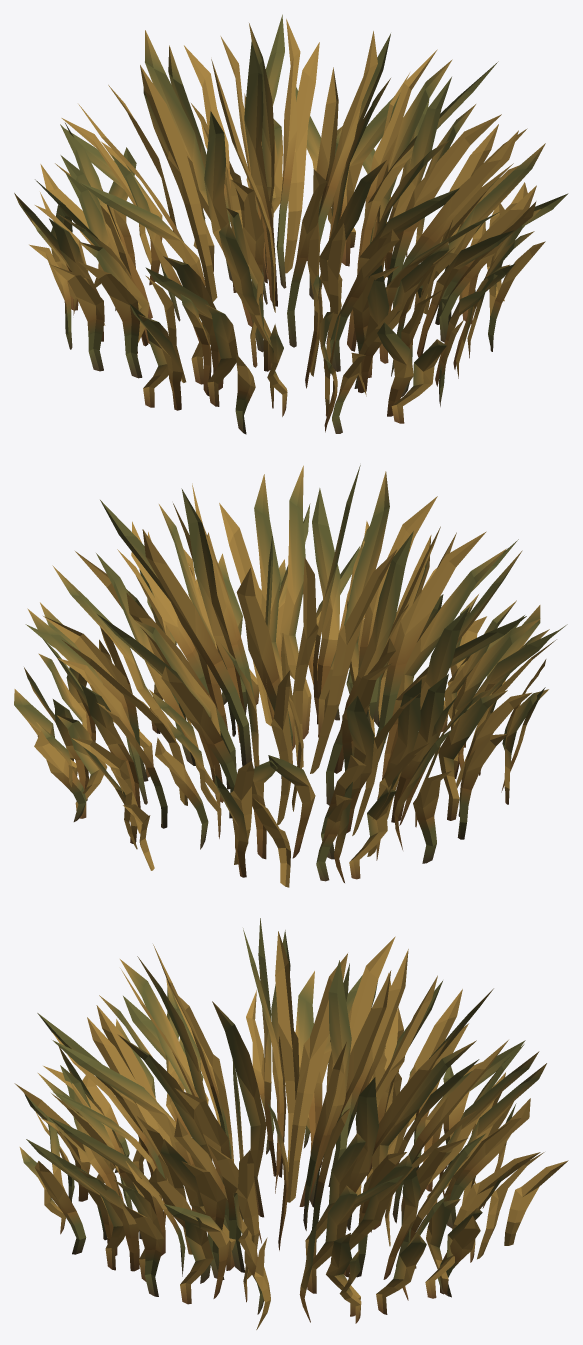
File: savannah_grass.glb
3 views of the same model, one above another, from view 1: azimuth 30°, elevation 25°; view 2: azimuth 150°, elevation 25°; view 3: azimuth 270°, elevation 25° (orthographic). The views are drawn at different scales.
Visible parts, largest first — view 1: Grass_LOD0; view 2: Grass_LOD0; view 3: Grass_LOD0.
Boxes of the visible parts, bbox=[...] form: Grass_LOD0: bbox=[14, 14, 568, 434]; Grass_LOD0: bbox=[14, 465, 567, 887]; Grass_LOD0: bbox=[14, 918, 568, 1329].
Size of what is drawn, in the model's own units: 2.29 by 1.34 by 2.47.
